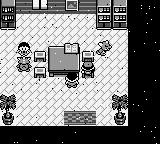leer: (64, 43, 79, 54), (65, 0, 78, 11)
main: (81, 61, 96, 75)
no-caminable: (1, 0, 160, 143), (48, 47, 80, 76), (96, 0, 127, 29), (17, 0, 64, 14), (112, 94, 128, 126), (1, 94, 16, 126), (1, 0, 16, 29), (80, 0, 95, 14)
npc: (96, 40, 112, 56), (65, 74, 79, 88), (17, 42, 31, 56), (17, 58, 31, 72)
puerta: (60, 111, 99, 125)
